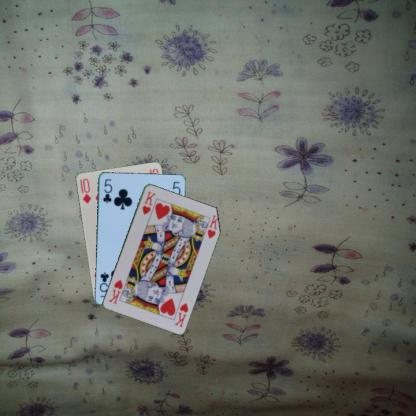10d: (77, 176, 92, 204)
5c: (100, 176, 113, 205)
Kh: (139, 188, 157, 216), (172, 300, 190, 328)
